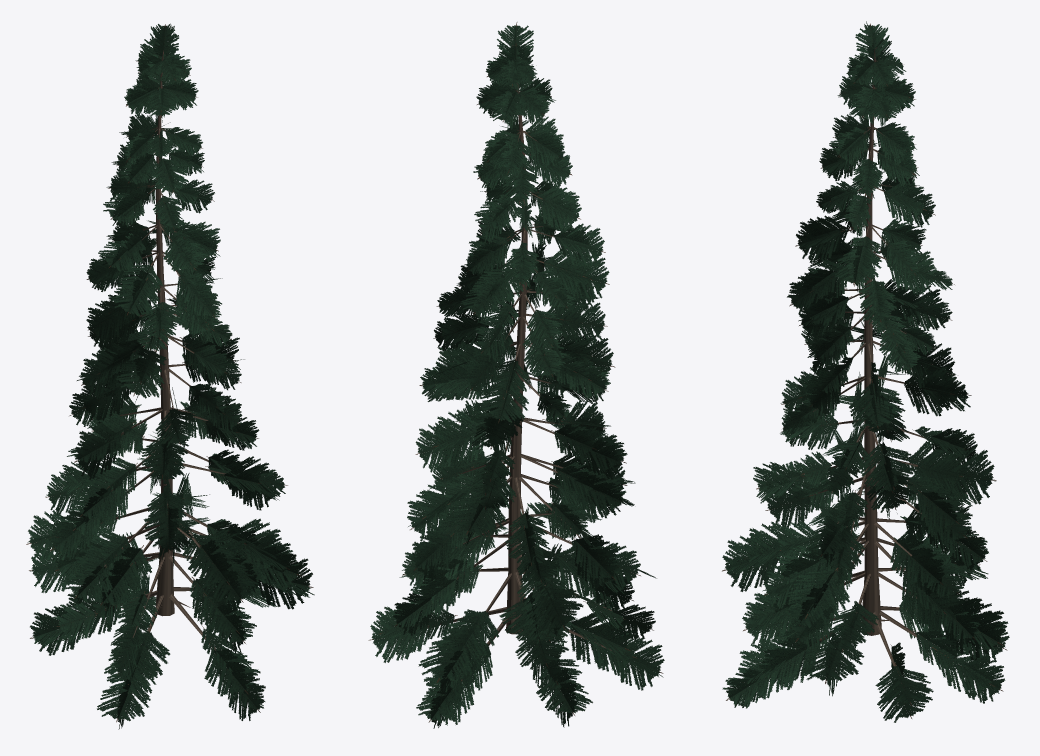
File: tree_spruce.glb
The picture shows the model from 3 angles, left to right: view 1: azimuth 30°, elevation 25°; view 2: azimuth 150°, elevation 25°; view 3: azimuth 270°, elevation 25°; orthographic projection. The views are drawn at different scales.
Parts seen in each view (by area): view 1: LOD0; view 2: LOD0; view 3: LOD0.
Part boxes in pixels (x1,y1,x2,y2): LOD0: (26,23,314,729); LOD0: (368,22,664,728); LOD0: (722,21,1009,722).
Size of what is drawn, in the model's own units: 10.74 by 25.95 by 10.8.
Materials: 2 (2 with a texture image).
